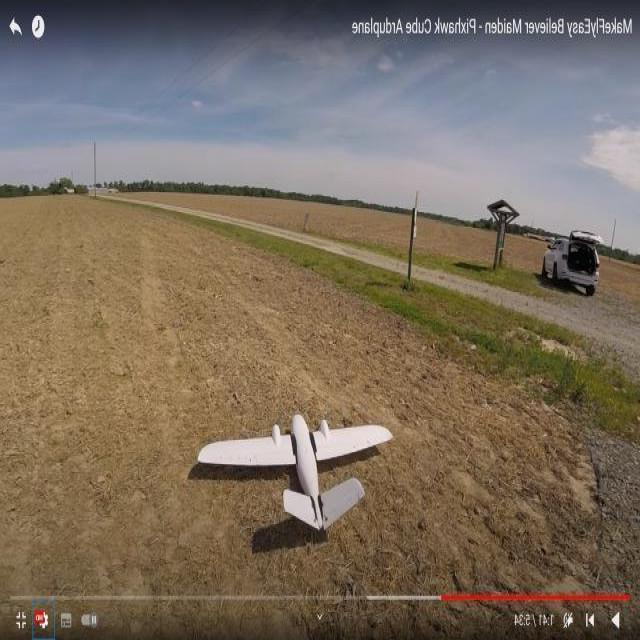iha: (190, 411, 400, 541)
